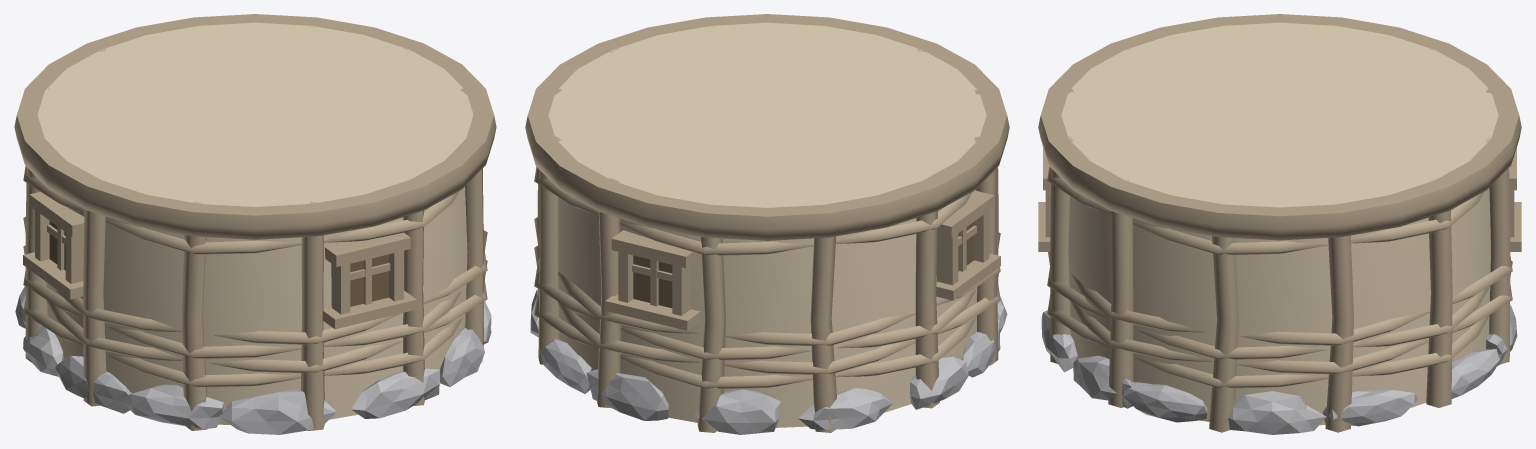
The model's file is building.roundroom.glb.
3 views of the same model, side by side, from view 1: azimuth 30°, elevation 25°; view 2: azimuth 150°, elevation 25°; view 3: azimuth 270°, elevation 25° (orthographic).
Visible parts, largest first — view 1: Paint, PaintDark, Stone, Door; view 2: Paint, PaintDark, Stone, Door; view 3: Paint, PaintDark, Stone.
Boxes of the visible parts, left/top/right/bottom form: Paint: left=37, top=22, right=473, bottom=424; PaintDark: left=14, top=14, right=496, bottom=430; Stone: left=15, top=286, right=491, bottom=434; Door: left=49, top=221, right=388, bottom=306; Paint: left=548, top=22, right=986, bottom=427; PaintDark: left=525, top=14, right=1009, bottom=432; Stone: left=530, top=289, right=1007, bottom=434; Door: left=633, top=222, right=974, bottom=308; Paint: left=1061, top=22, right=1498, bottom=425; PaintDark: left=1038, top=14, right=1521, bottom=432; Stone: left=1041, top=305, right=1517, bottom=434.
Size of the model in its own units: 1.99 by 1 by 1.99.
